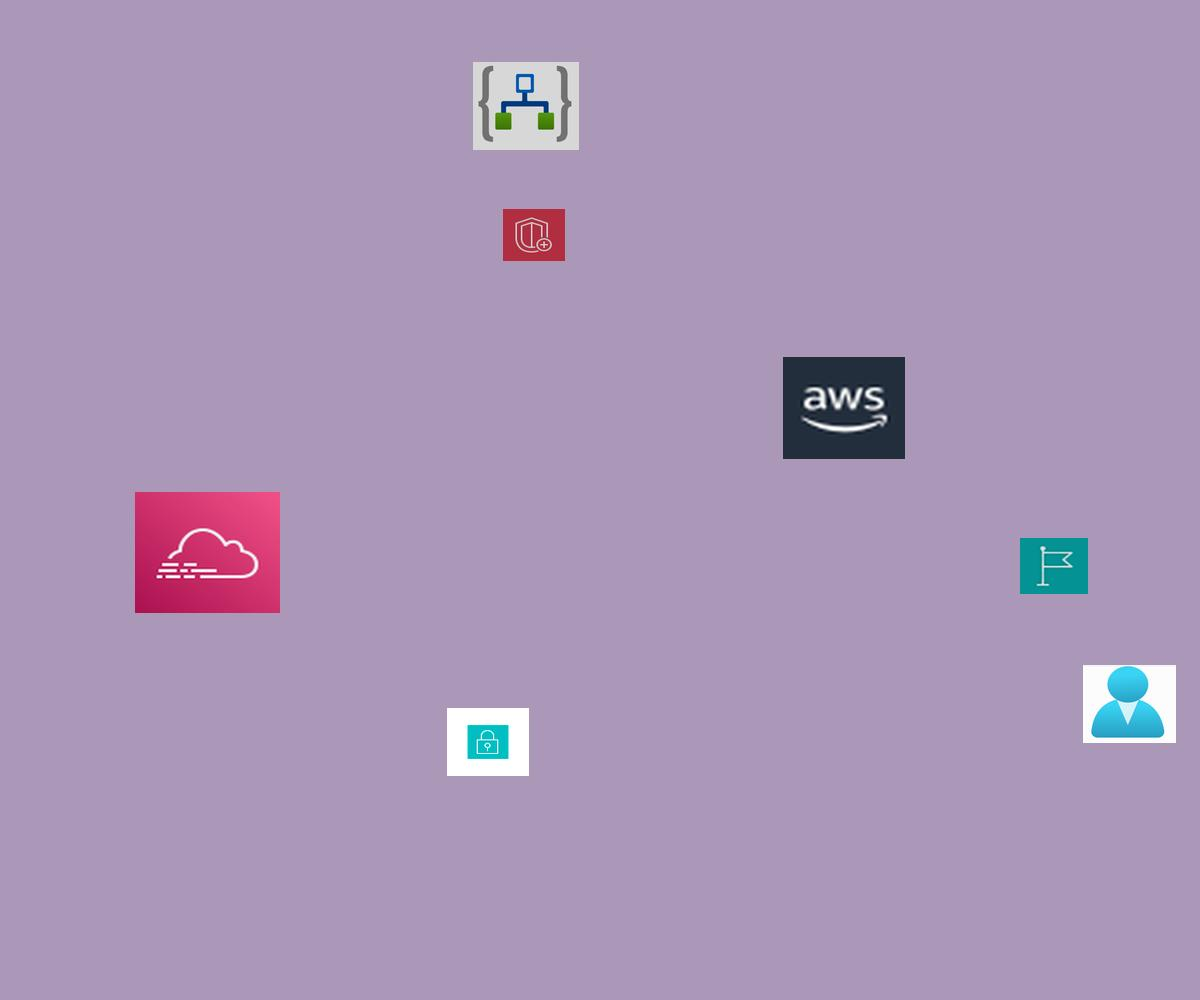AWS-Cloud-logo: (783, 357, 905, 459)
AWS-CloudTrail: (135, 492, 280, 613)
AWS-Private-subnet: (447, 708, 529, 776)
AWS-Region: (1020, 538, 1088, 594)
AWS-Shield: (503, 209, 565, 261)
Azure_integration-204-Logic-Apps: (473, 62, 579, 150)
Azure_users: (1083, 665, 1176, 743)
